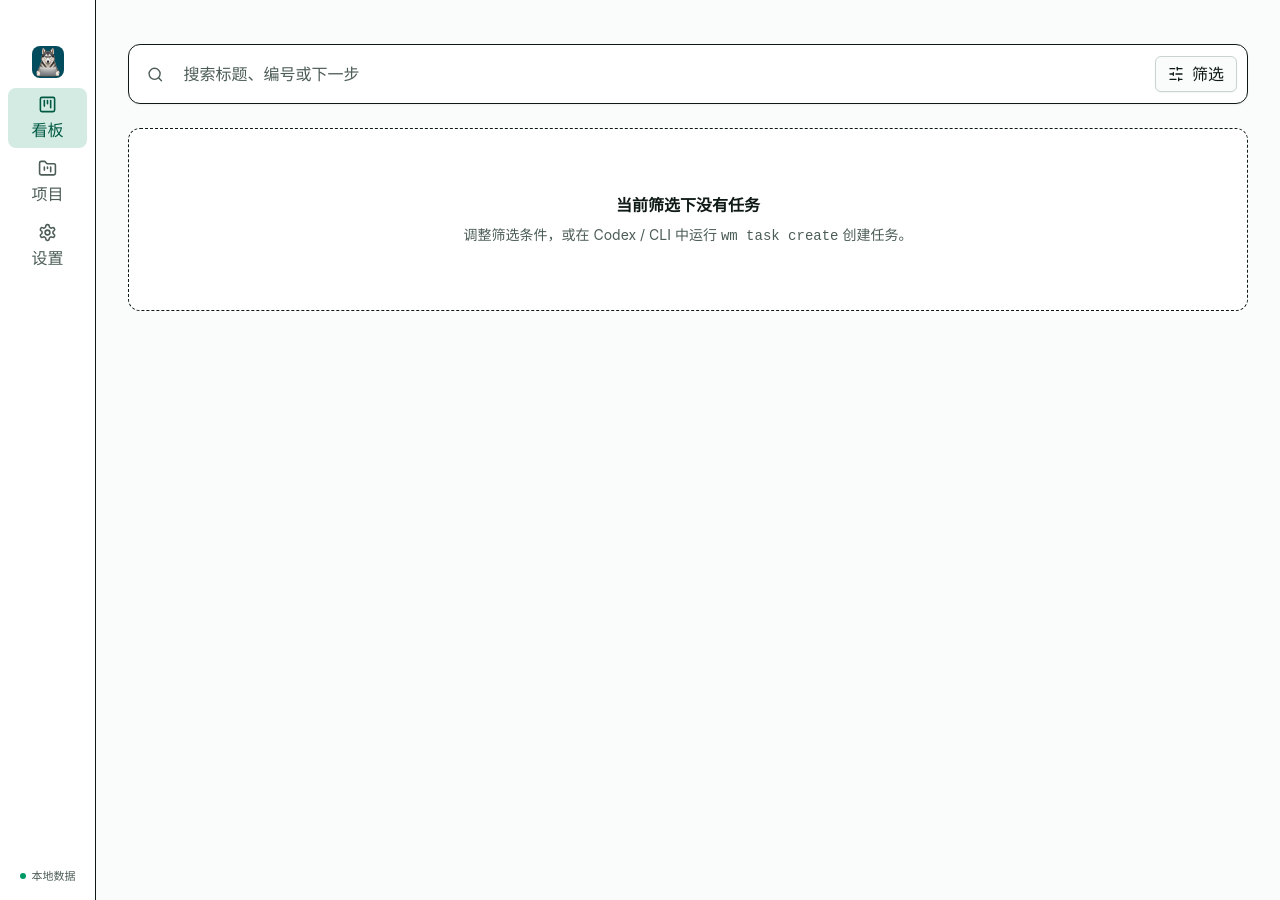
it: 应用级项目初始化与重设 › 初始化后的任务刷新失败时保留错误且不显示成功反馈
Click the button "设置" at (48, 246), box [8, 216, 87, 276]
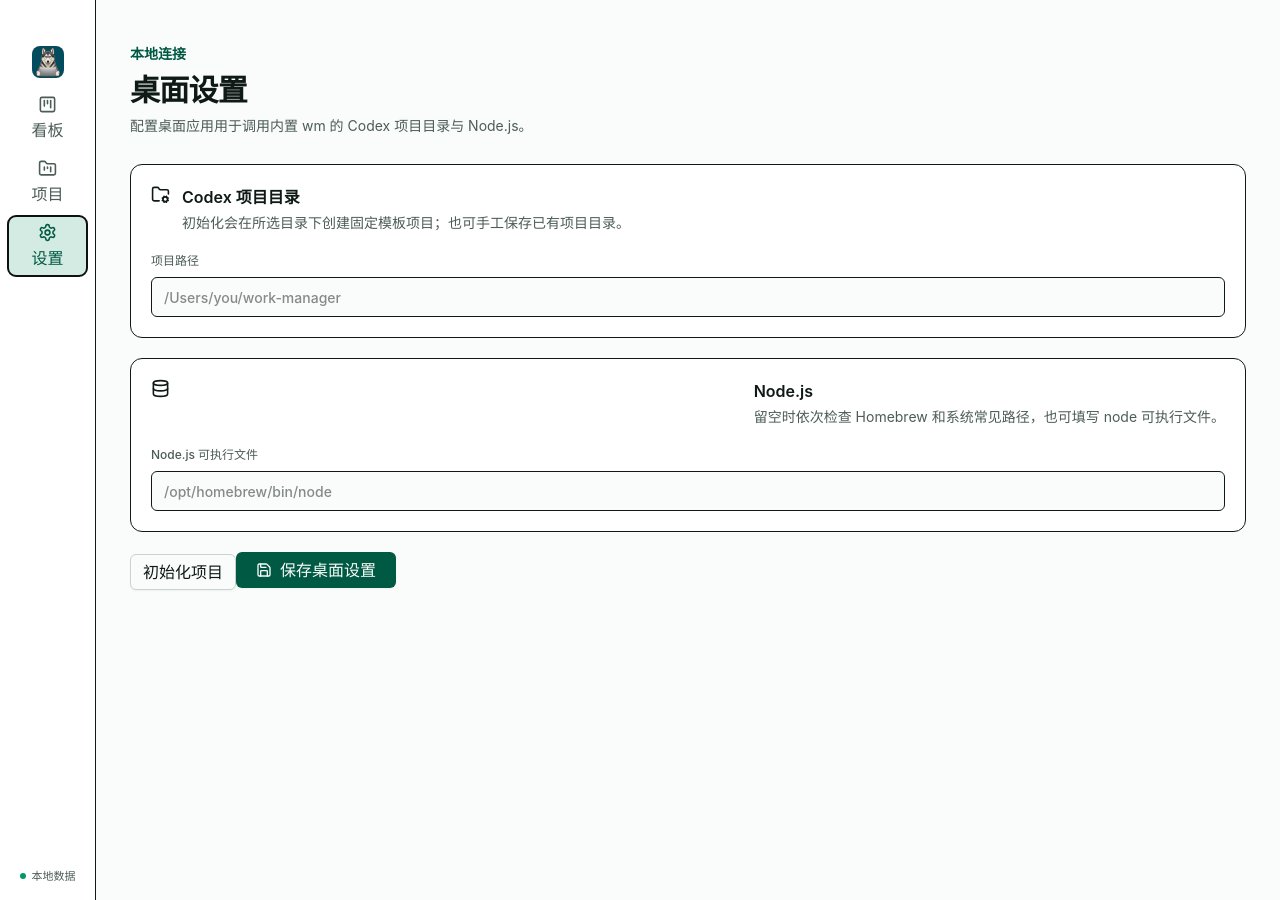
Click the button "初始化项目" at (183, 572), box [130, 554, 236, 590]
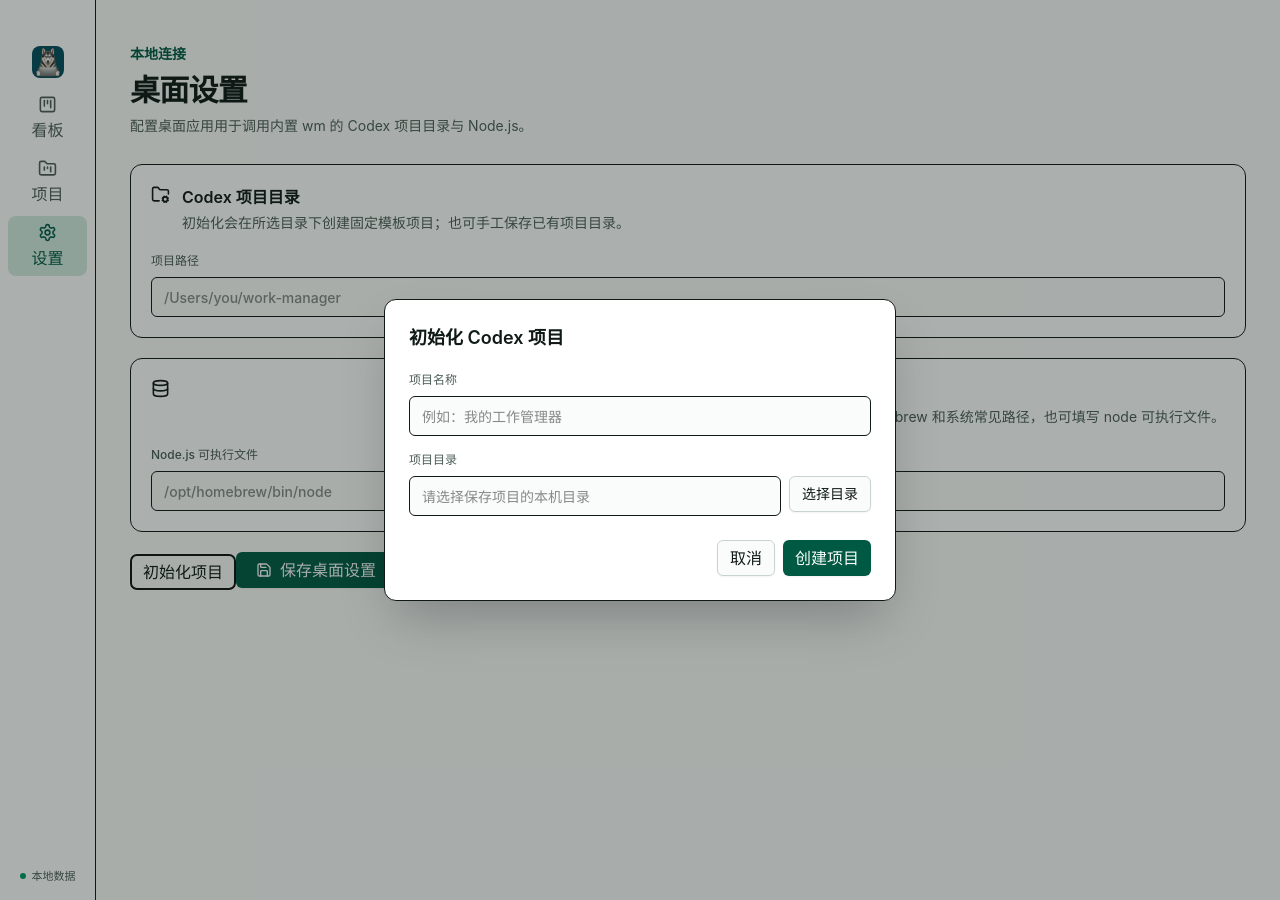
Type "我的项目" into the field labelled "项目名称" at (640, 416), box [409, 396, 871, 436]
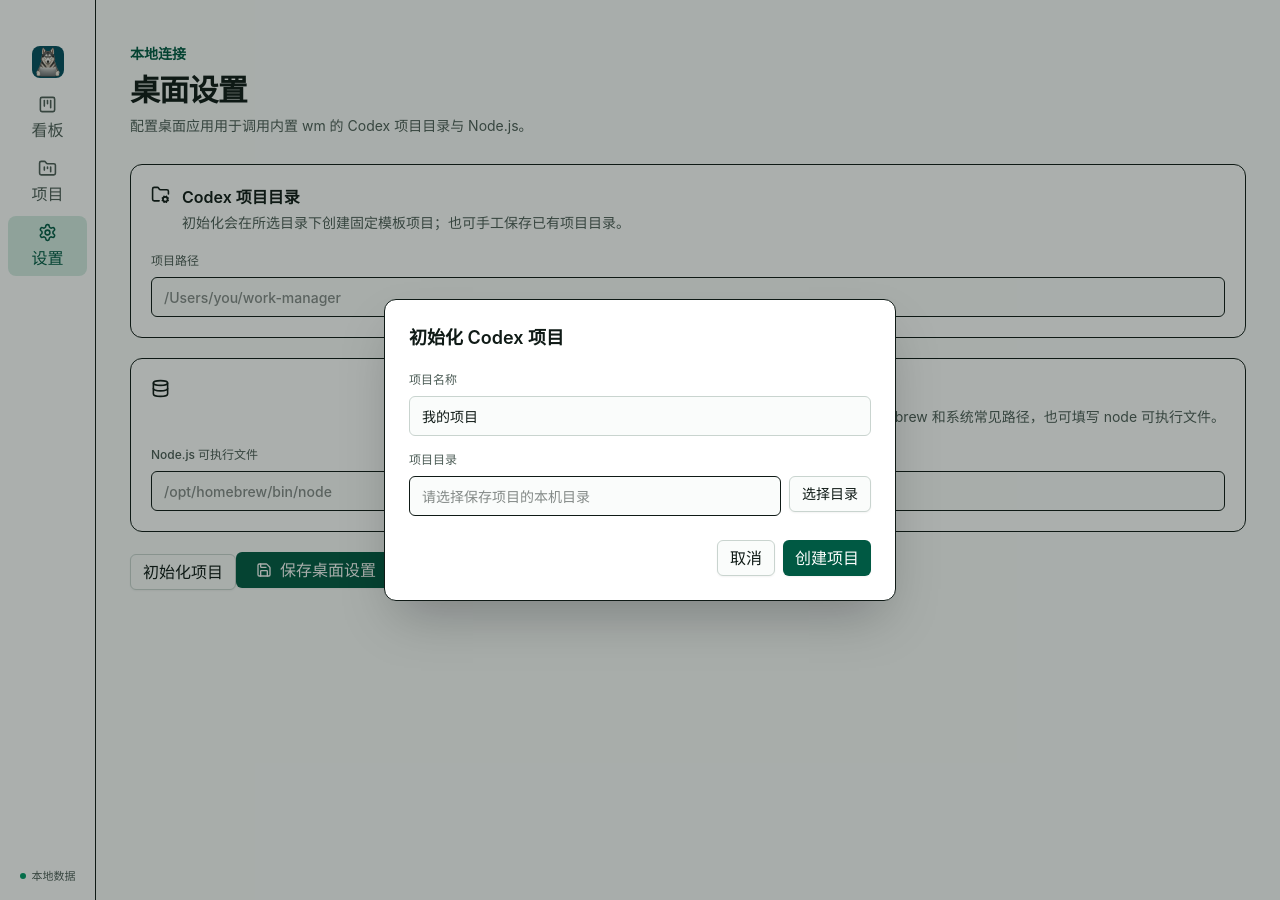
Click the button "选择目录" at (830, 494), box [789, 476, 871, 512]
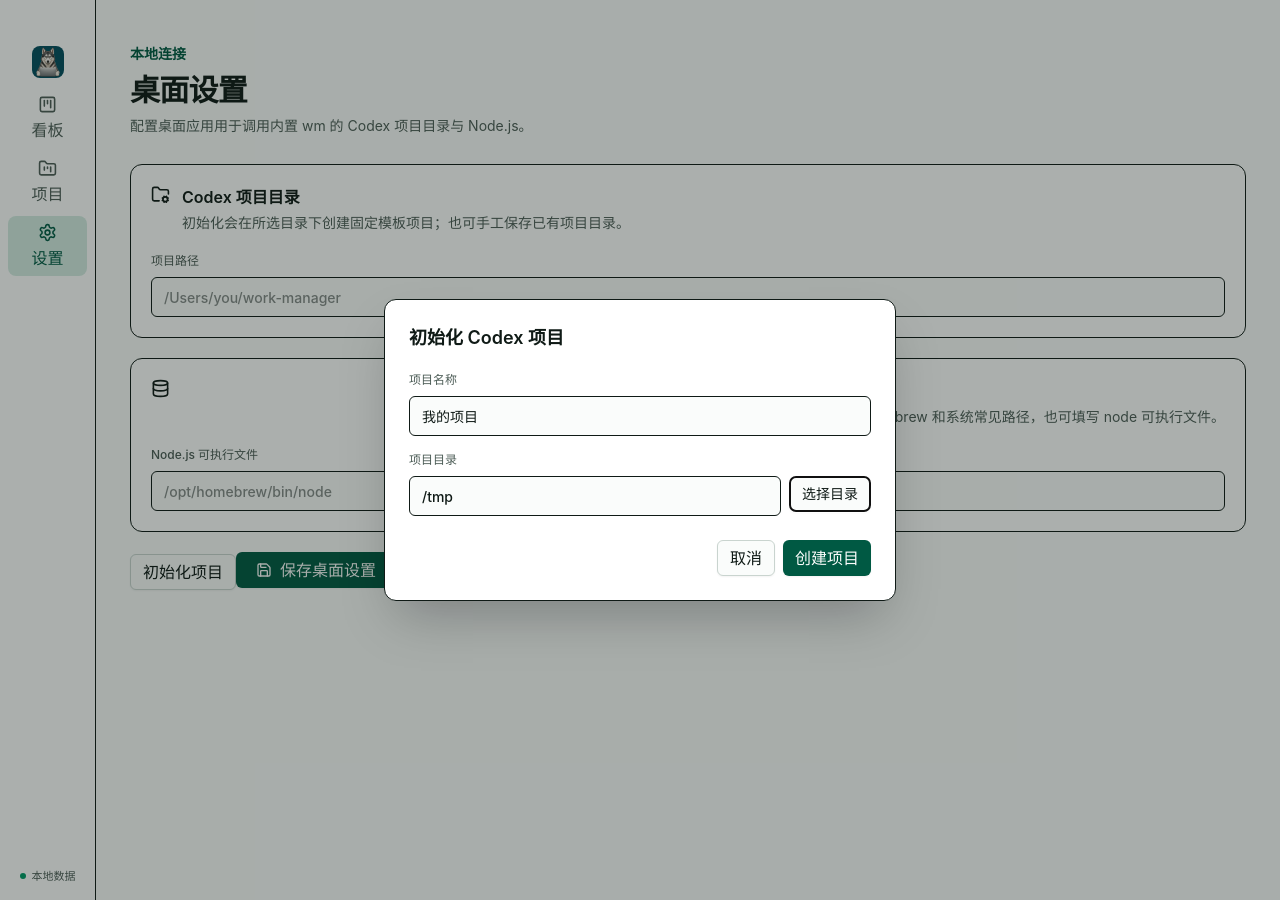
Click the button "创建项目" at (827, 558), box [783, 540, 871, 576]
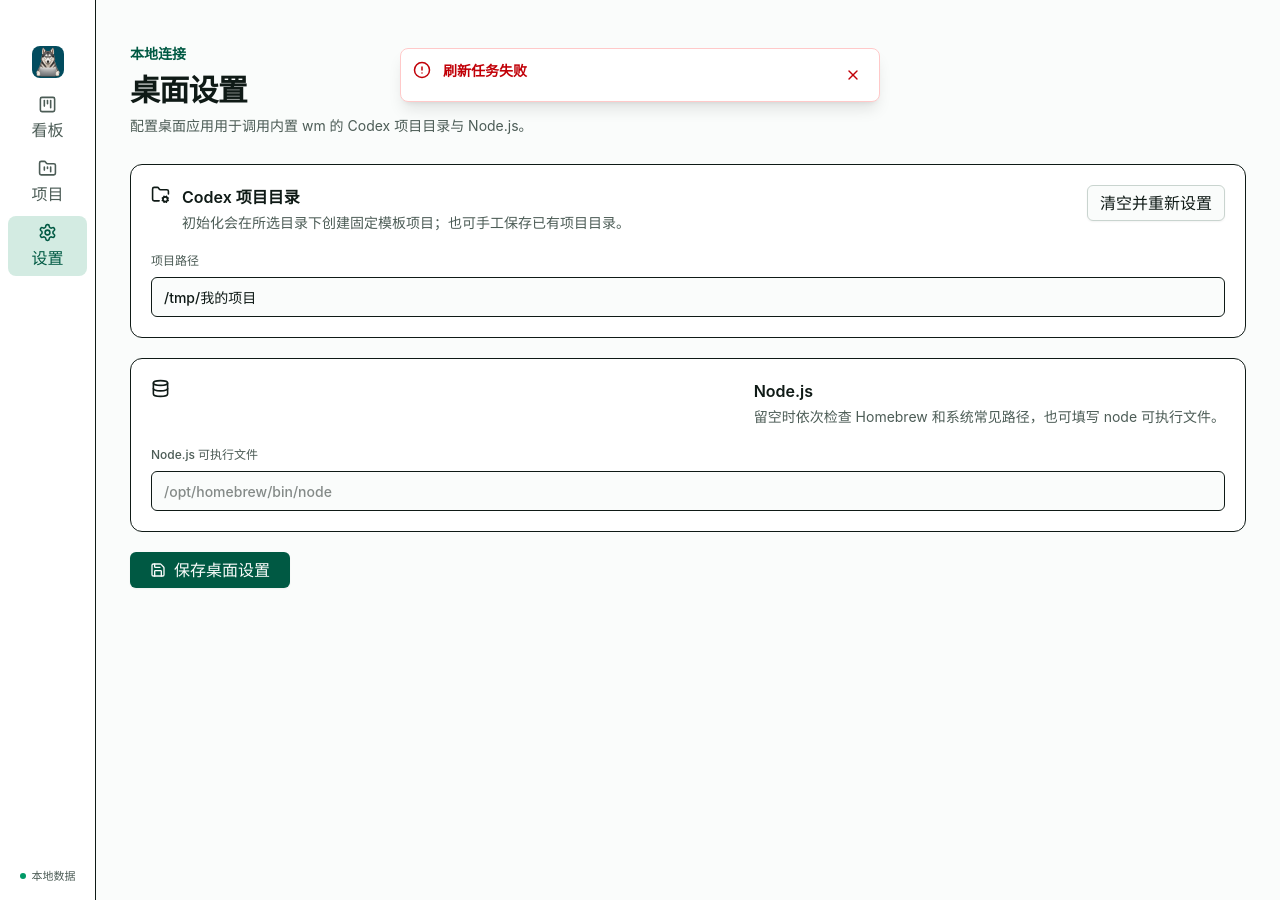
expect the message reads "刷新任务失败": met, box [443, 62, 527, 79]
